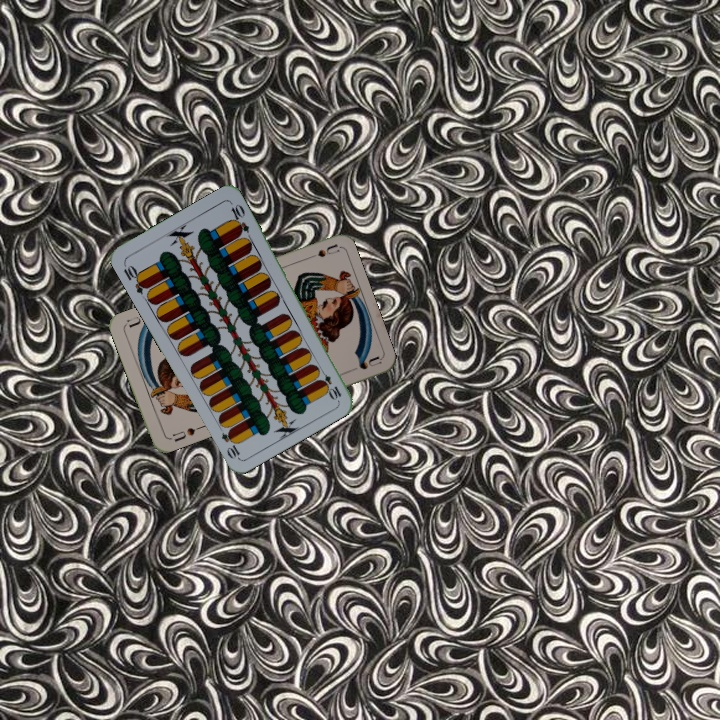E10: (119, 259, 151, 297), (315, 364, 344, 402)
SU: (300, 240, 340, 263), (165, 422, 204, 444)
